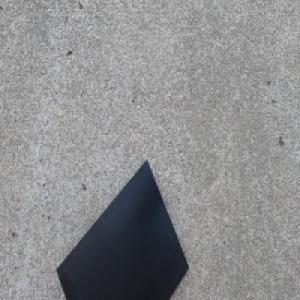PlasticPart: (51, 157, 186, 300)
